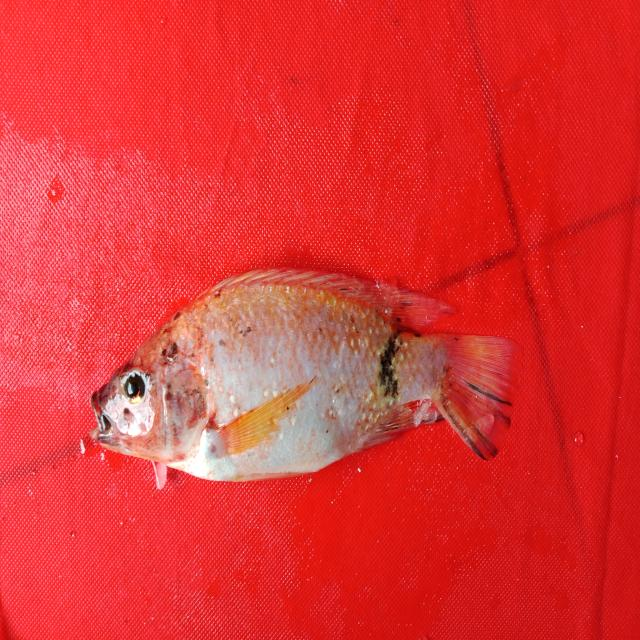ikan: (87, 265, 518, 491)
